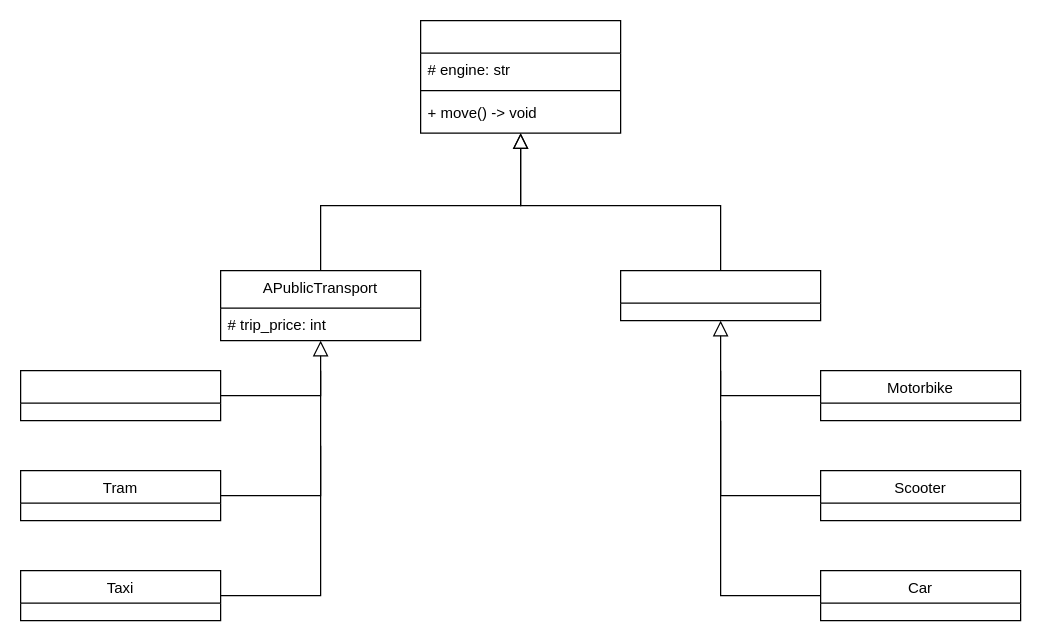
Some shapes in this 1041 by 641 pixel diagram are drawn without their labels. Each missing label, with the box of its shape:
APersonalTransport: (619, 269, 821, 321)
ATransport: (419, 19, 621, 133)
Bus: (19, 369, 221, 421)
